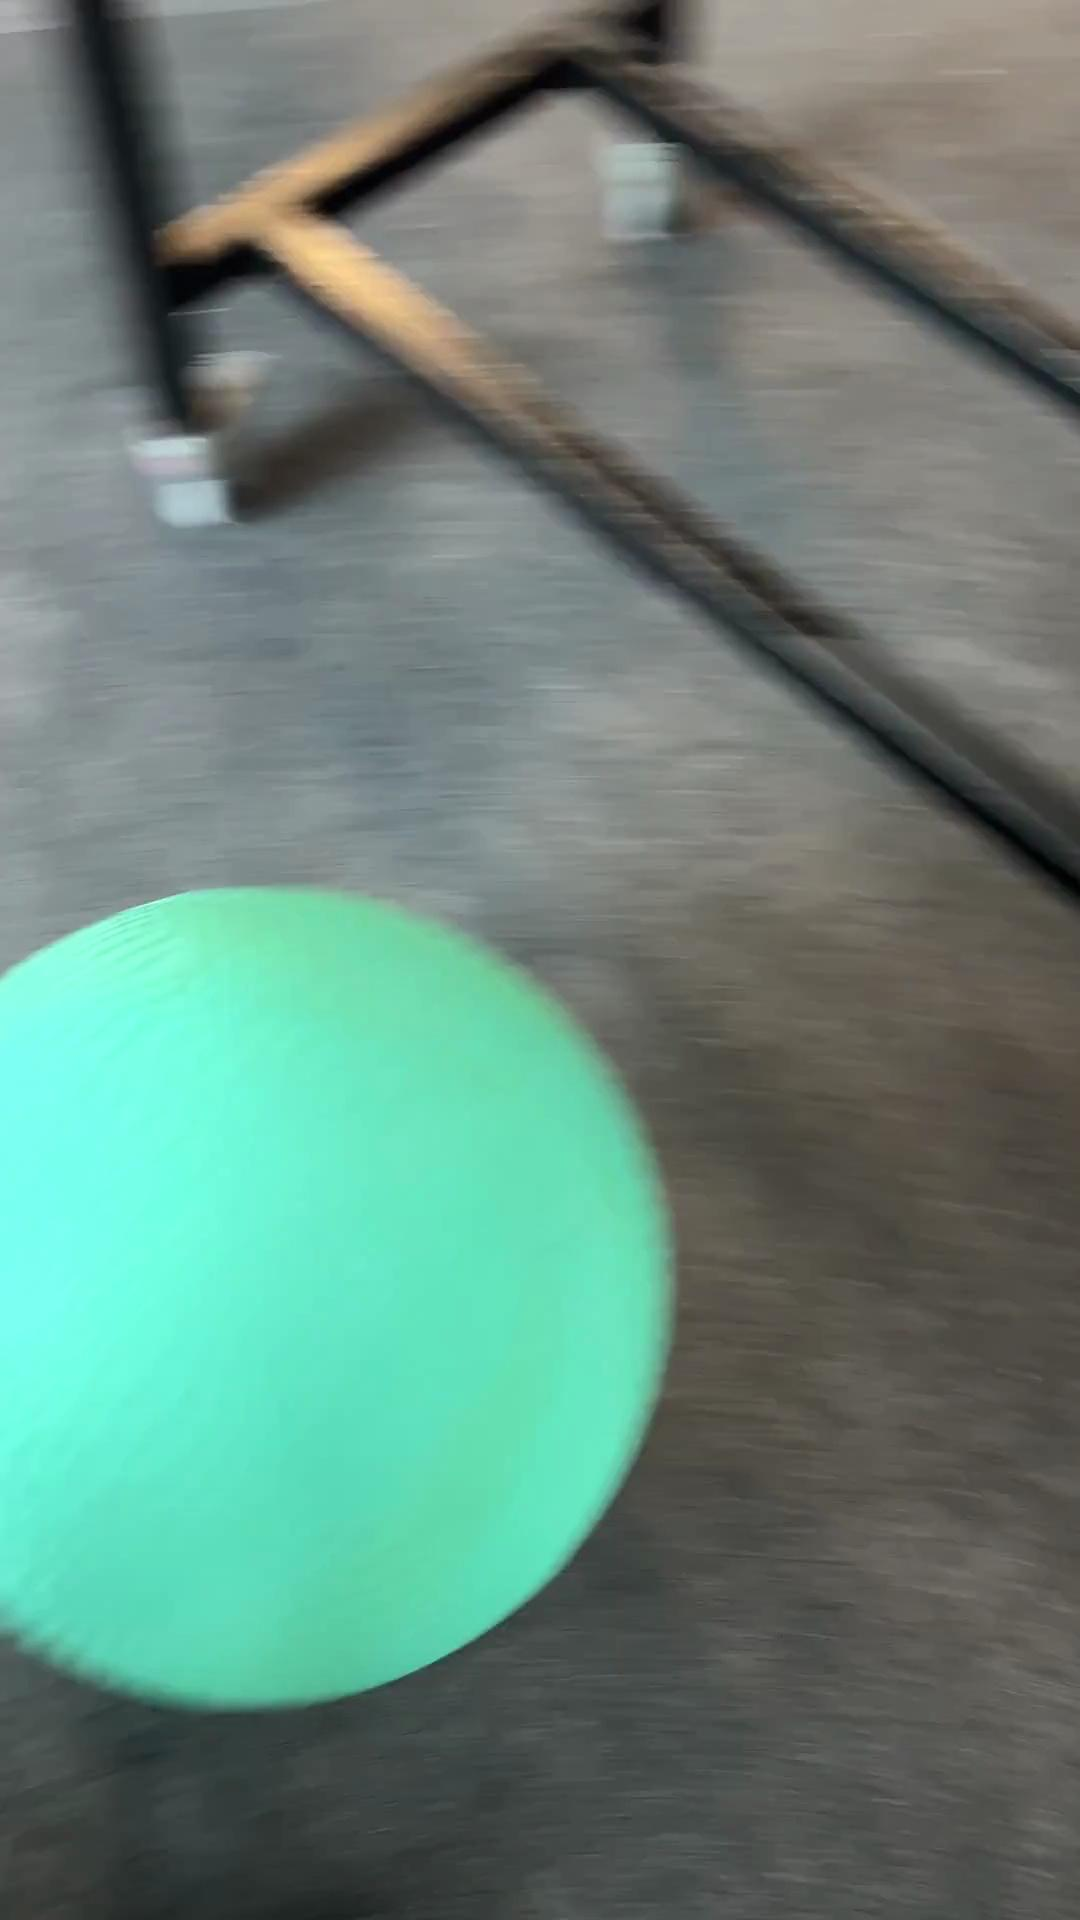ALGAE: (1, 881, 678, 1716)
